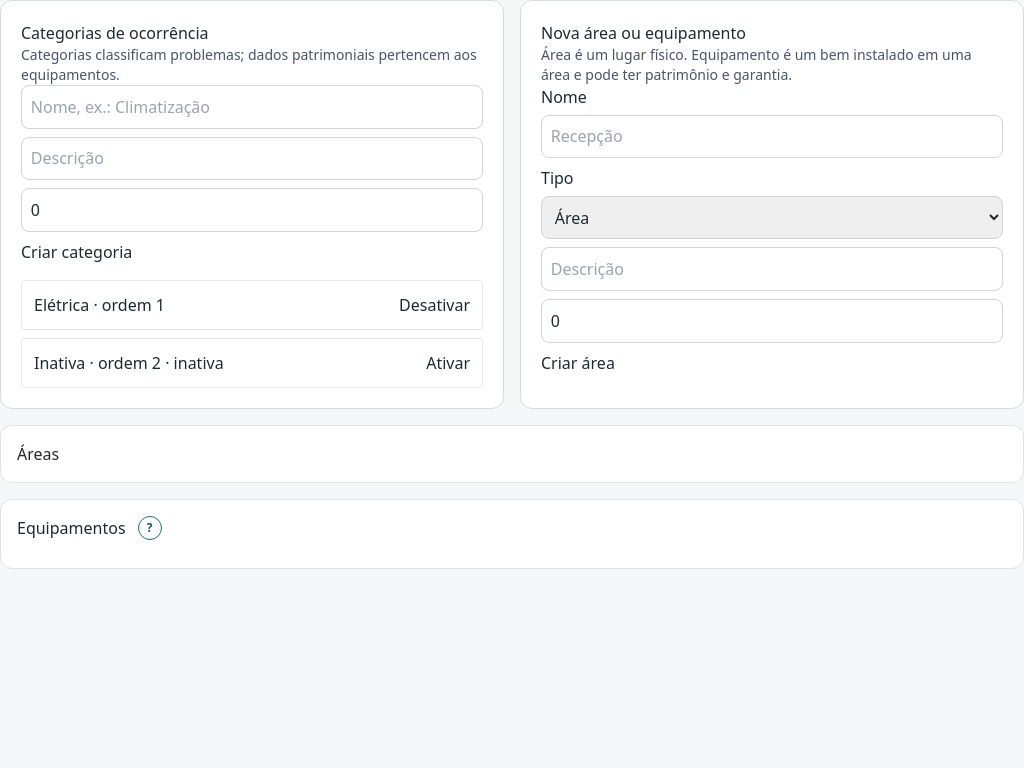
Test: componentes da gestão avançada de manutenção › keeps asset fields out of categories and reveals them for equipment
Expected: the text "dados patrimoniais pertencem aos equipamentos" is shown, x1=21 y1=45 x2=477 y2=84
Expected: the field with placeholder "Patrimônio, ex.: PAT-REC-001" is not shown
Select "Equipamento" in the dropdown labelled "Tipo" at (772, 218), box x1=541 y1=196 x2=1003 y2=239
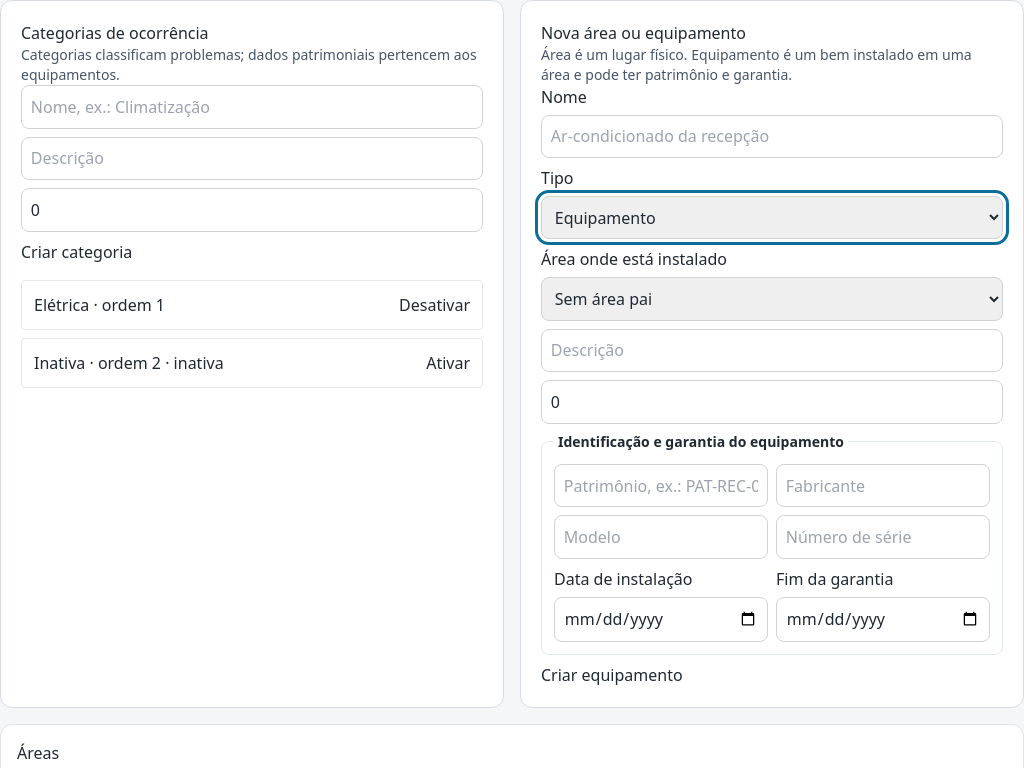
Expected: the field with placeholder "Patrimônio, ex.: PAT-REC-001" is shown, x1=554 y1=464 x2=768 y2=507
Expected: the date field labelled "Fim da garantia" is shown, x1=776 y1=596 x2=990 y2=642
